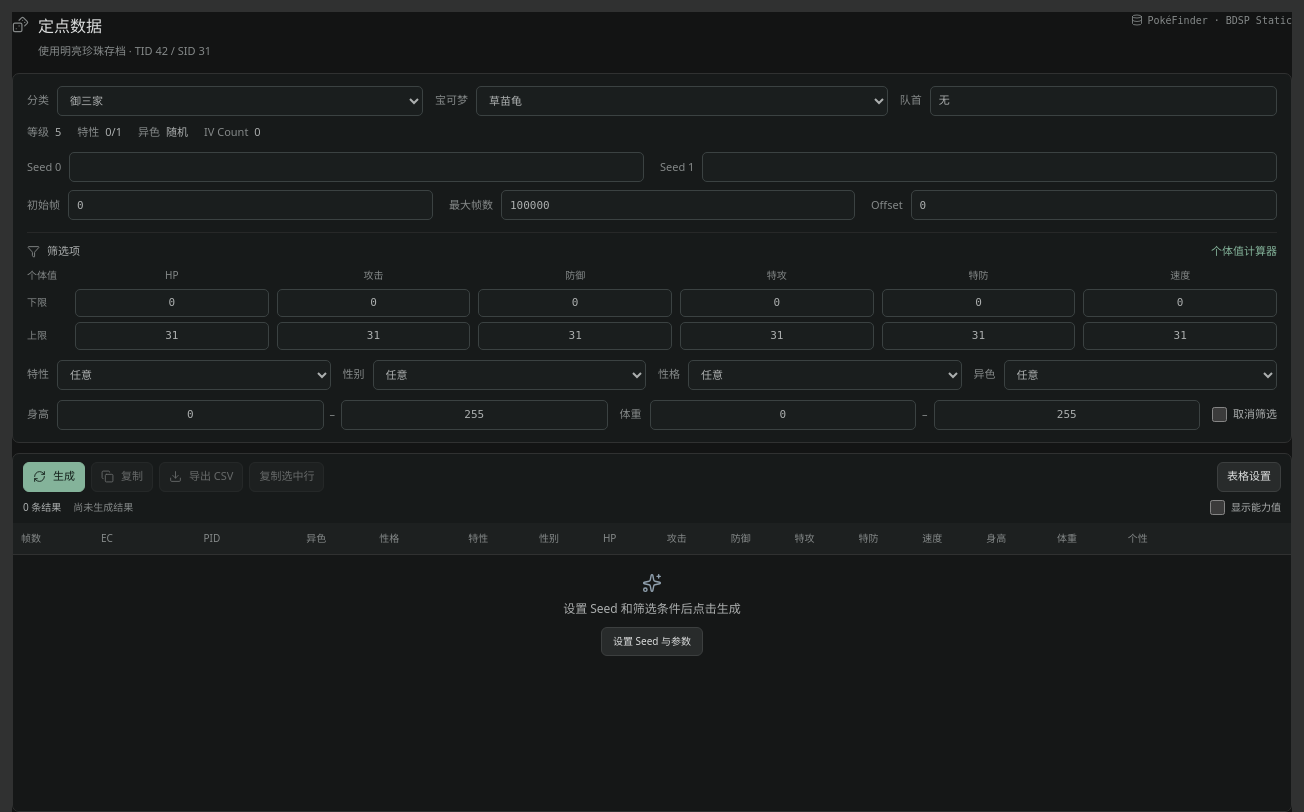
Test: rejects invalid inputs before invoking the engine
Type "FFFFFFFFFFFFFFFF" into the field labelled "Seed 0" at [357, 167], box [69,152,644,182]
Type "0123456789ABCDEF" into the field labelled "Seed 1" at [990, 167], box [702,152,1277,182]
Clear the field labelled "Seed 1" at [990, 167], box [702,152,1277,182]
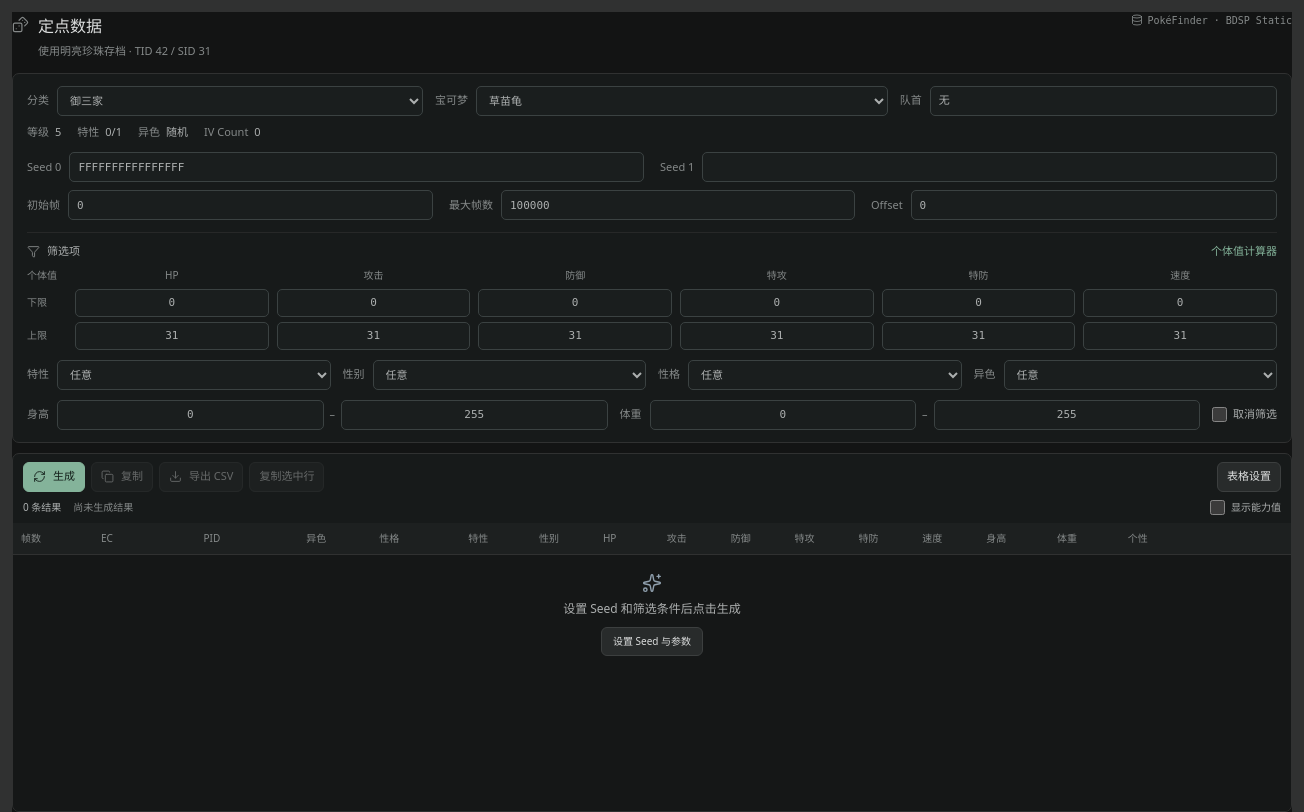
Click the button "生成" at [54, 476], box [23,462,85,492]
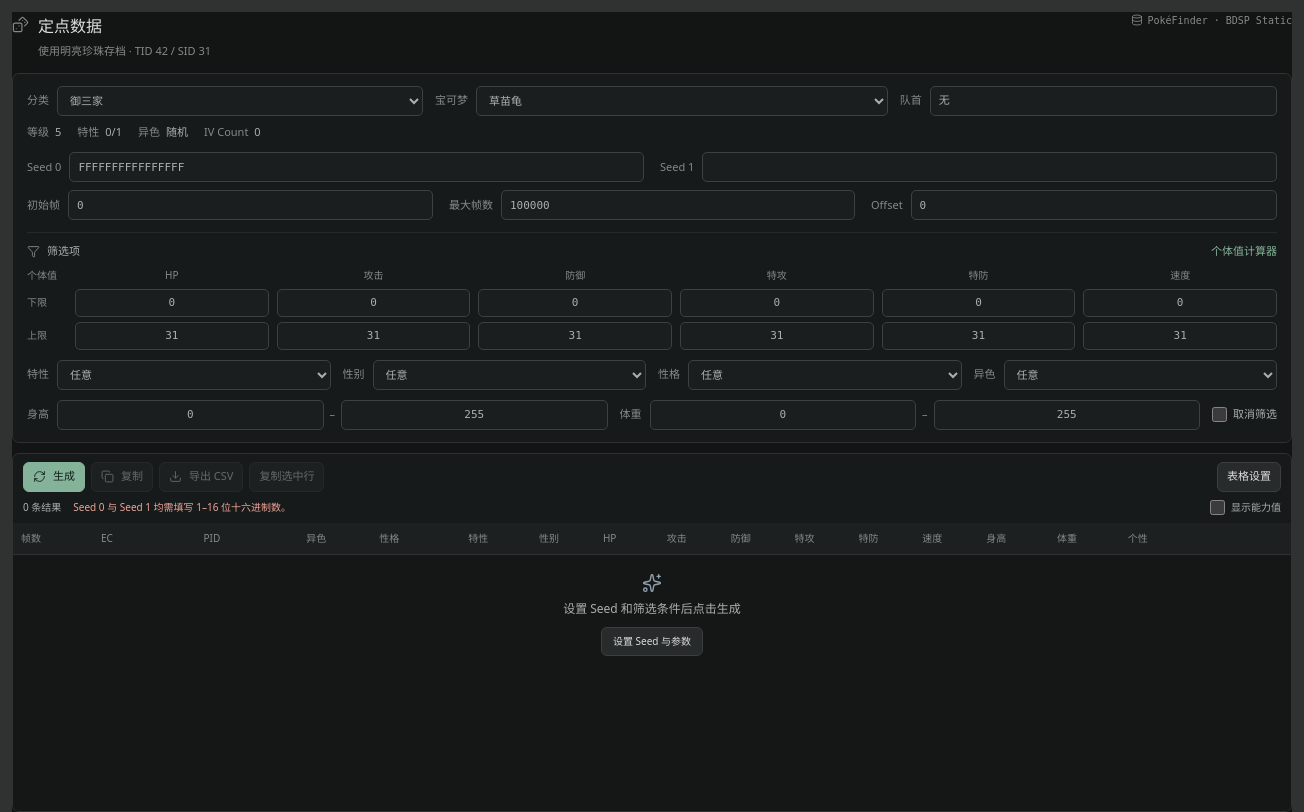
expect the message shows "Seed": met, box [73,500,291,514]
Type "0" into the field labelled "Seed 1" at [990, 167], box [702,152,1277,182]
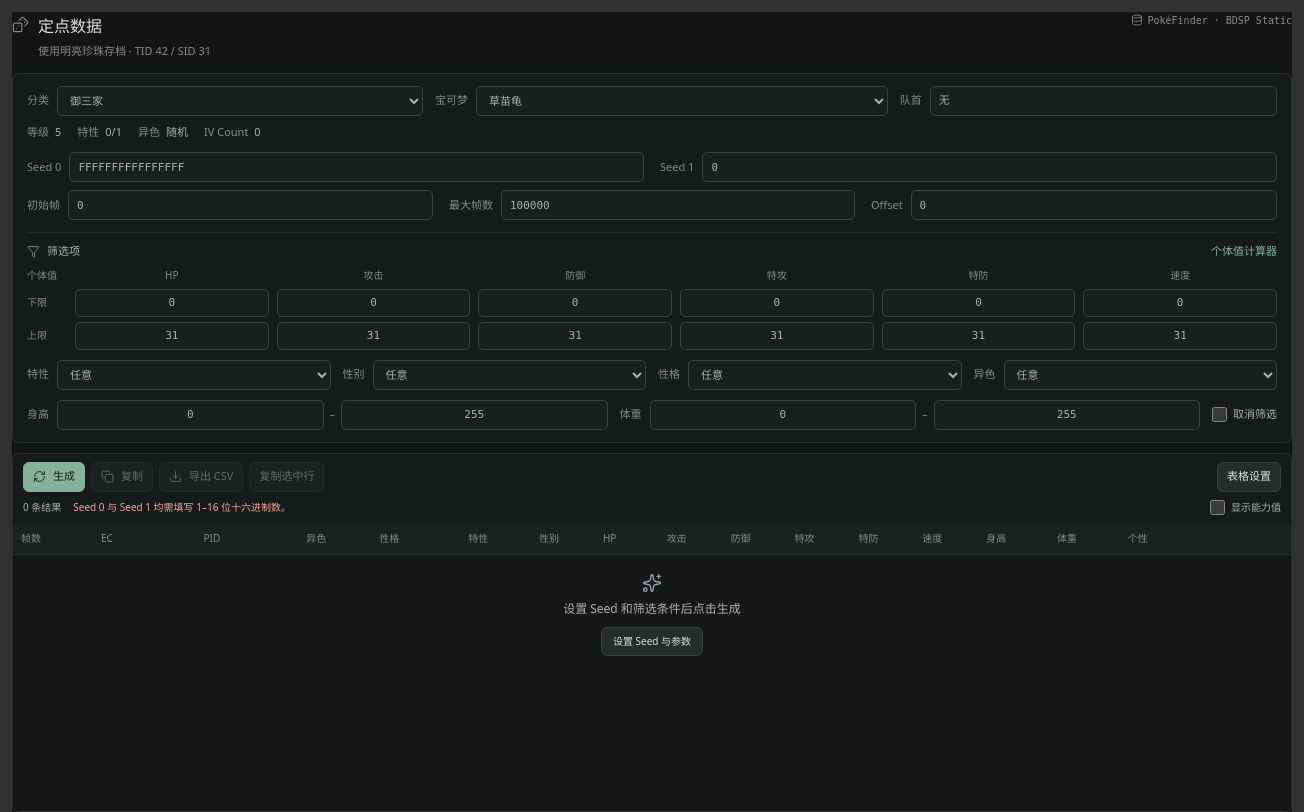
Replace the text in the field named "身高下限" with "100" at [190, 414], box [57,400,324,430]
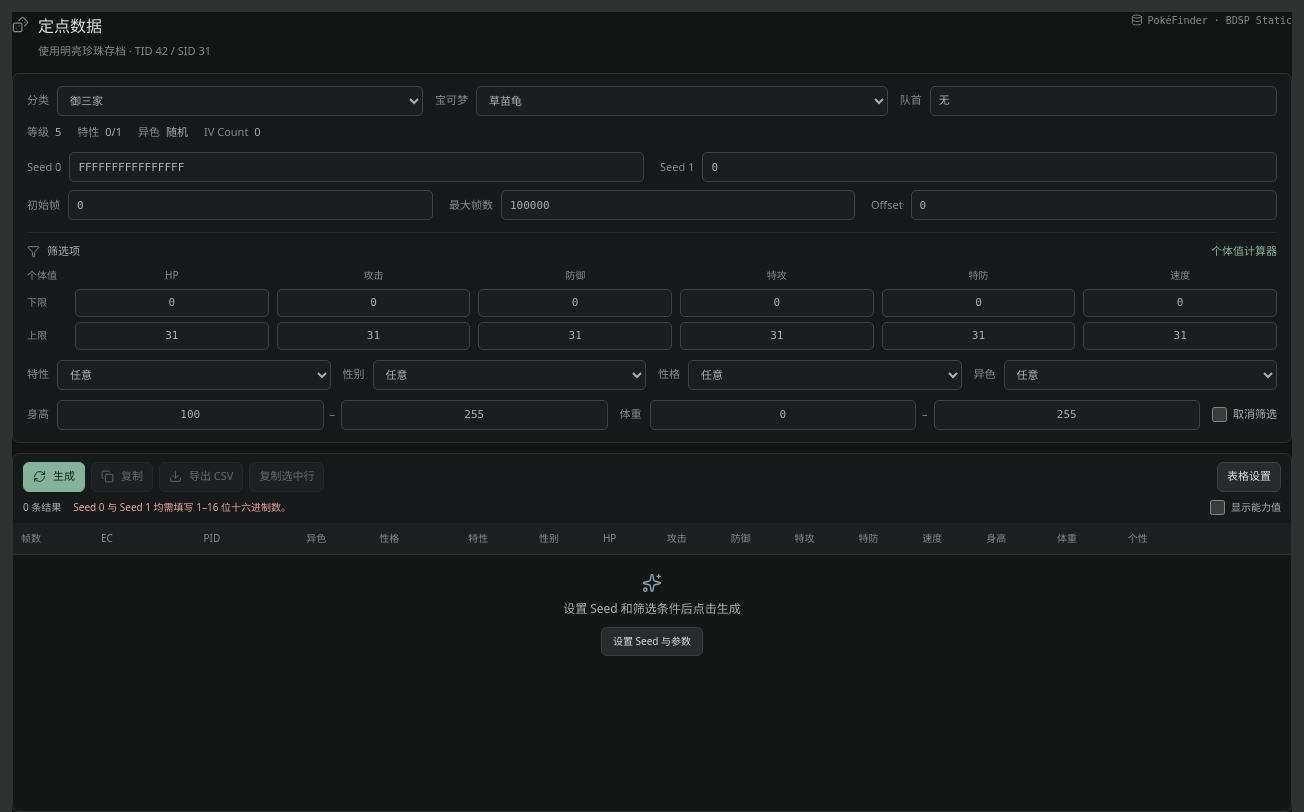
Replace the text in the field named "身高上限" with "0" at [474, 414], box [341,400,608,430]
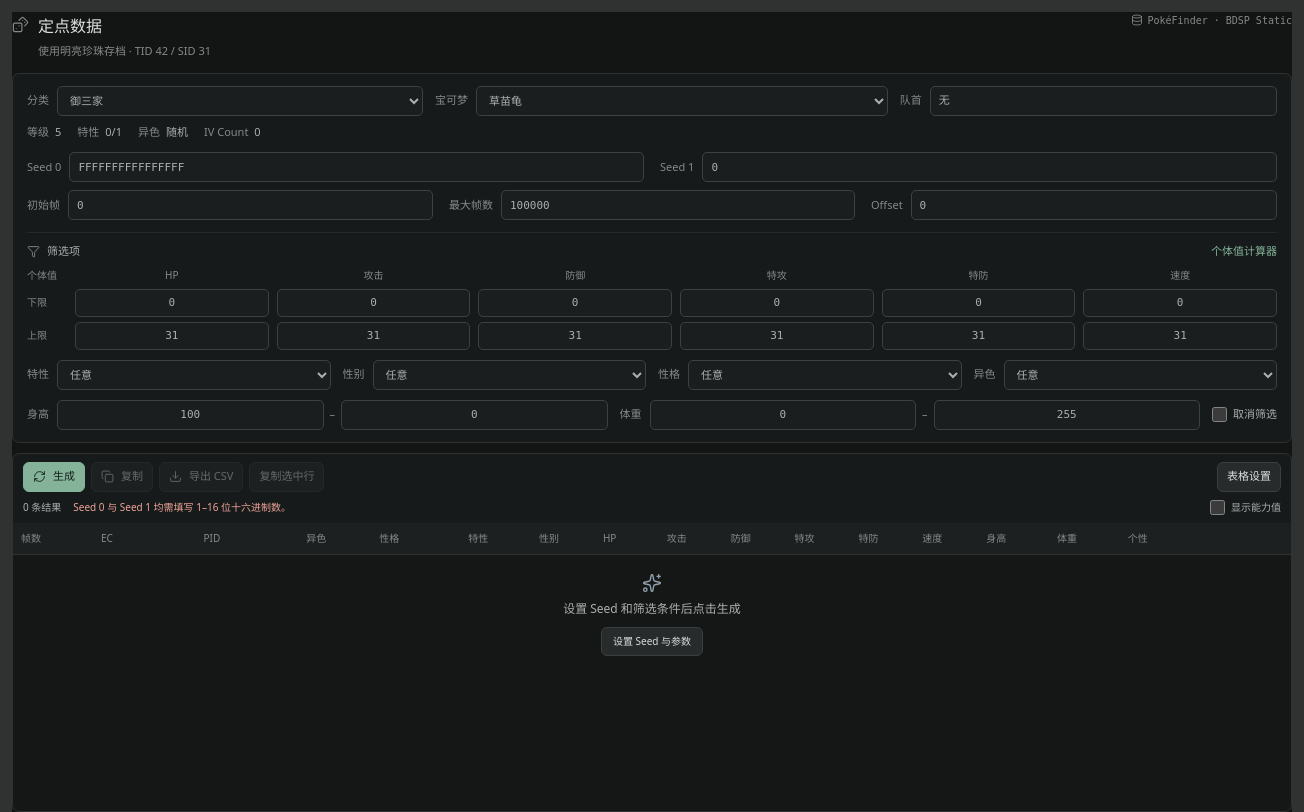
Click the button "生成" at [54, 476], box [23,462,85,492]
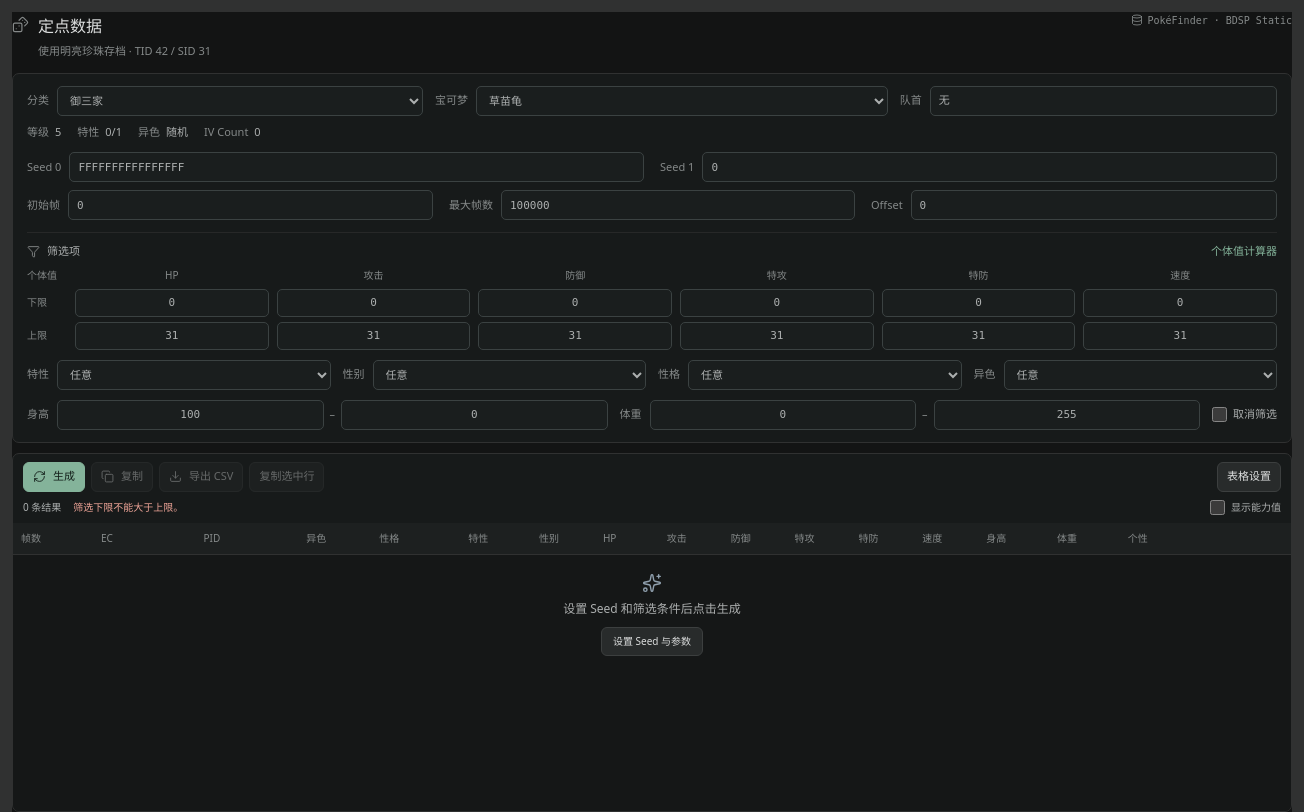
expect the message shows "下限": met, box [73,500,183,514]
